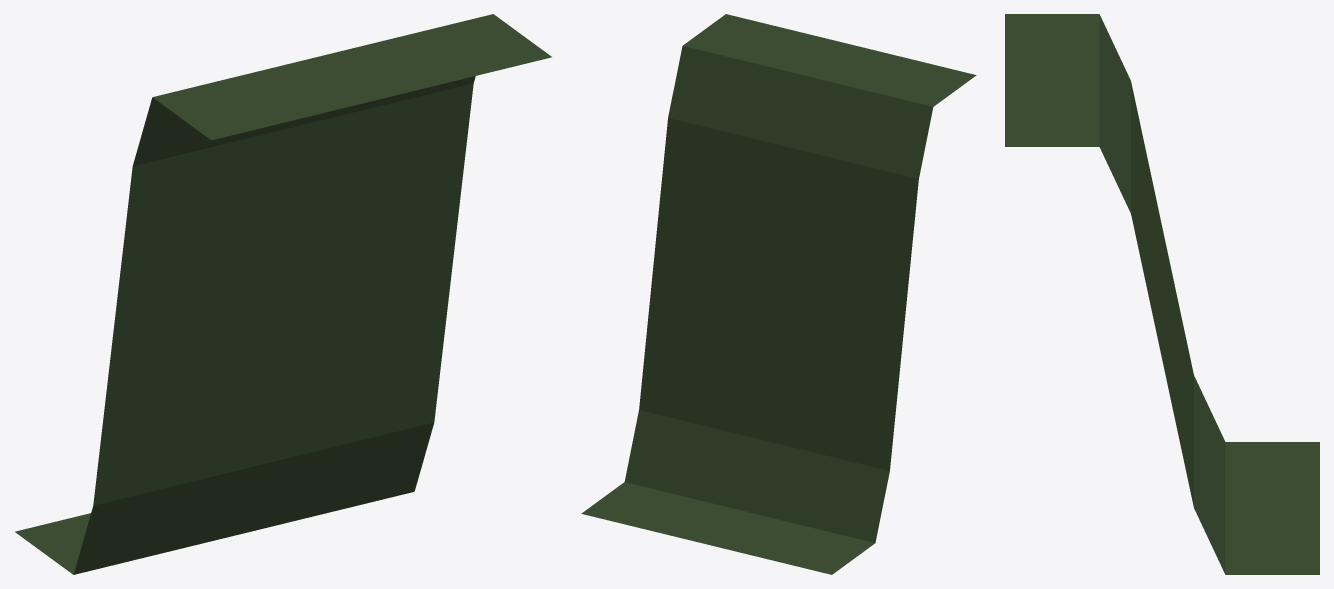
Rendered from TestTerrain.obj.
3 views of the same model, side by side, from view 1: azimuth 30°, elevation 25°; view 2: azimuth 150°, elevation 25°; view 3: azimuth 270°, elevation 25° (orthographic). The views are drawn at different scales.
Visible parts, largest first — view 1: TestTerrain; view 2: TestTerrain; view 3: TestTerrain.
Part boxes in pixels (box(x1,y1,x2,y2)): TestTerrain: box(15, 14, 551, 574); TestTerrain: box(581, 14, 976, 574); TestTerrain: box(1005, 14, 1319, 574).
Bounding box in the file's own units: 1 × 1.5 × 1.
